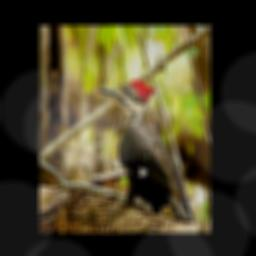Woodpecker: (98, 80, 194, 223)
